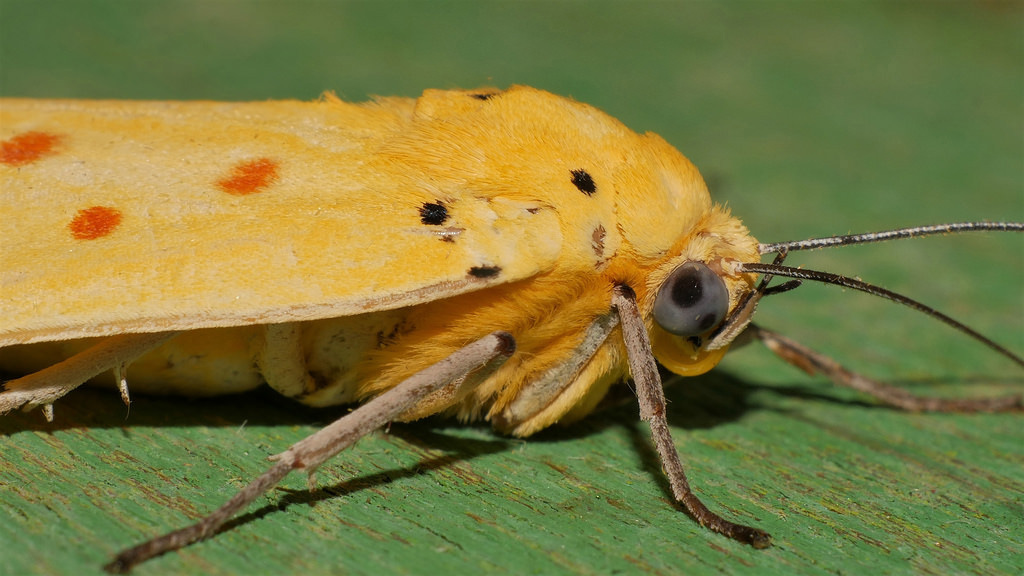Agape chloropyga: (6, 79, 1024, 576)
moth: (2, 79, 1020, 576)
